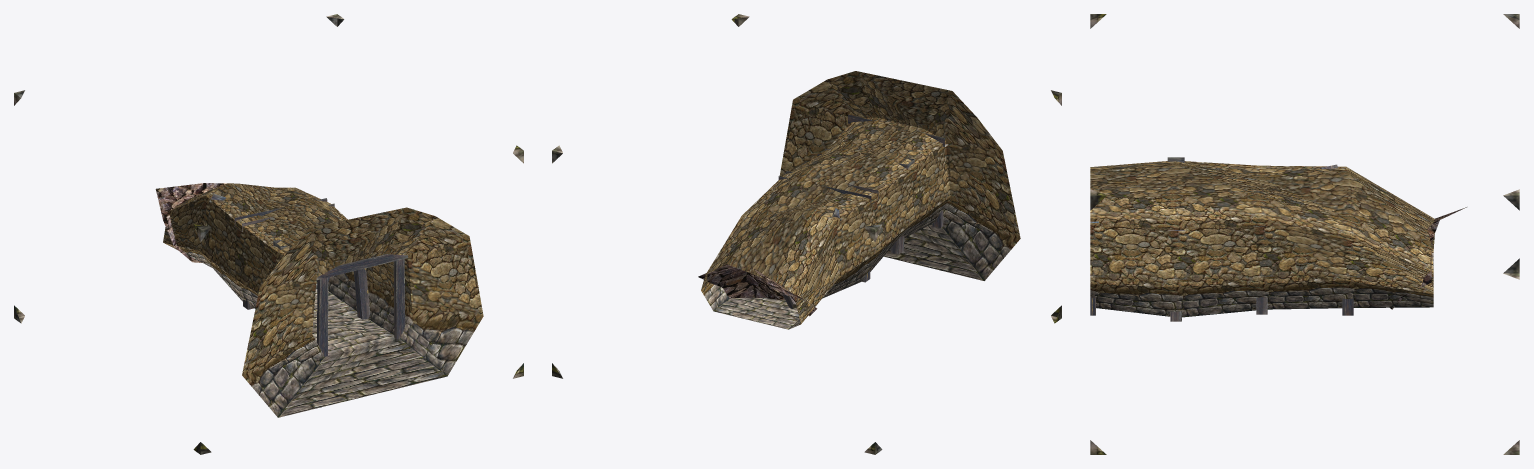
Rendered from Lbm_1c.glb.
The picture shows the model from 3 angles, left to right: view 1: azimuth 30°, elevation 25°; view 2: azimuth 150°, elevation 25°; view 3: azimuth 270°, elevation 25°; orthographic projection. The views are drawn at different scales.
Visible parts, largest first — view 1: Lbm_1c-col; view 2: Lbm_1c-col; view 3: Lbm_1c-col.
Boxes of the visible parts, <box> form: Lbm_1c-col: <box>14,14,523,454</box>; Lbm_1c-col: <box>552,14,1061,454</box>; Lbm_1c-col: <box>1090,14,1519,454</box>.
Bounding box in the file's own units: 15 × 10 × 15.
7 materials, 7 textured.
